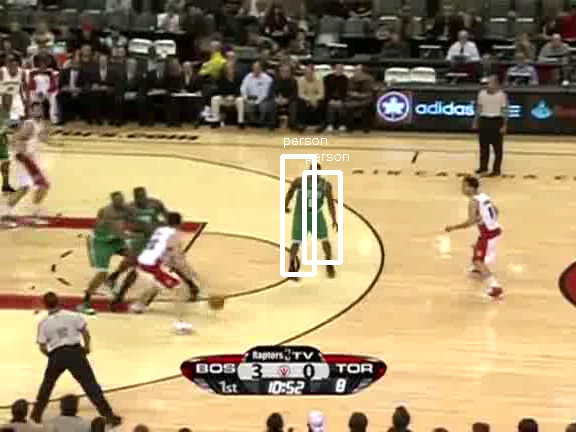person: (295, 170, 329, 251), (294, 170, 328, 251), (296, 170, 330, 251), (295, 169, 329, 250), (295, 171, 329, 252)
target_negative: (390, 127, 528, 370), (495, 88, 566, 214), (139, 357, 202, 422), (558, 64, 564, 410), (550, 277, 572, 337), (569, 4, 571, 119)
